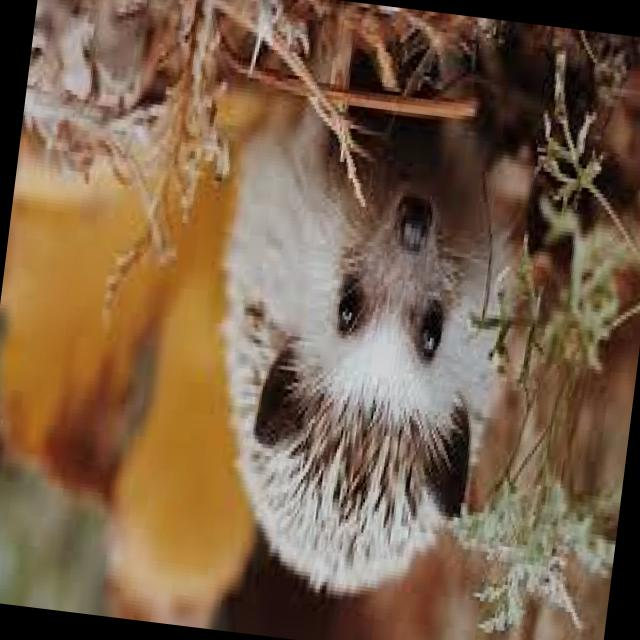Hedgehog: (190, 62, 534, 622)
